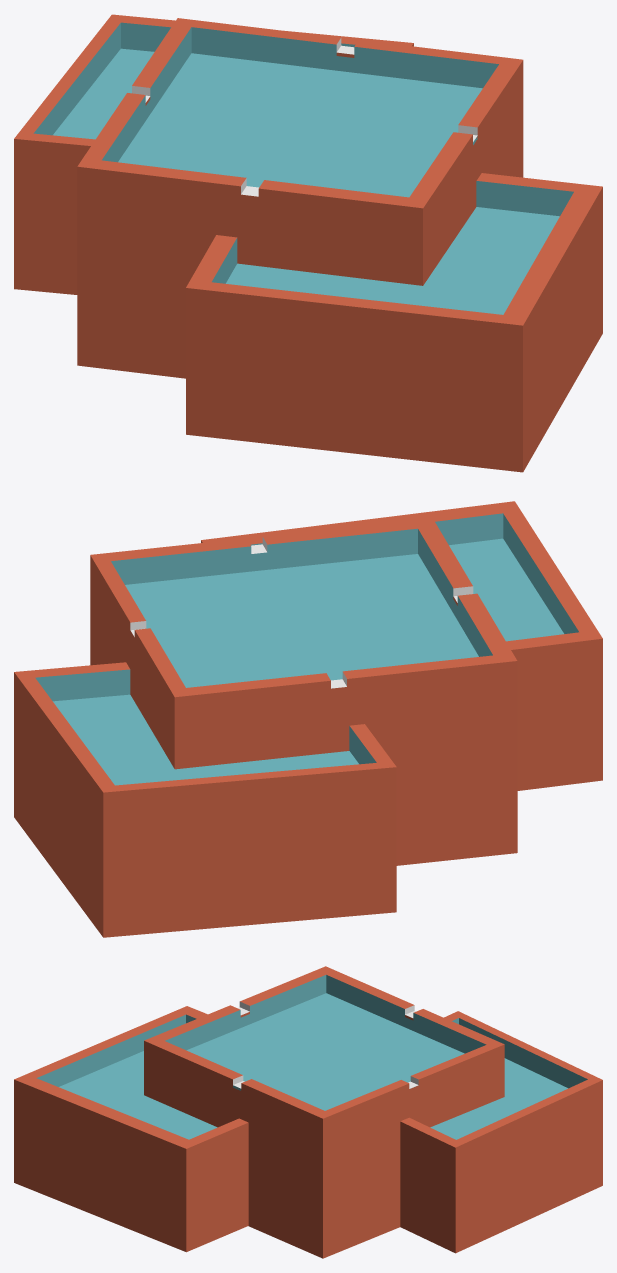
File: pool2.fbx
3 views of the same model, one above another, from view 1: azimuth 30°, elevation 25°; view 2: azimuth 150°, elevation 25°; view 3: azimuth 270°, elevation 25° (orthographic). The views are drawn at different scales.
Parts seen in each view (by area): view 1: Cube; view 2: Cube; view 3: Cube.
Boxes of the visible parts, x1,y1,x2,y2 form: Cube: (14,14,602,472); Cube: (14,501,602,937); Cube: (14,966,602,1258).
Bounding box in the file's own units: 85.49 × 36.58 × 140.
